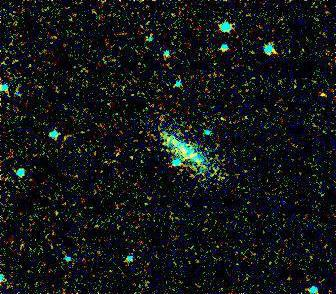star: (306, 81, 336, 111)
